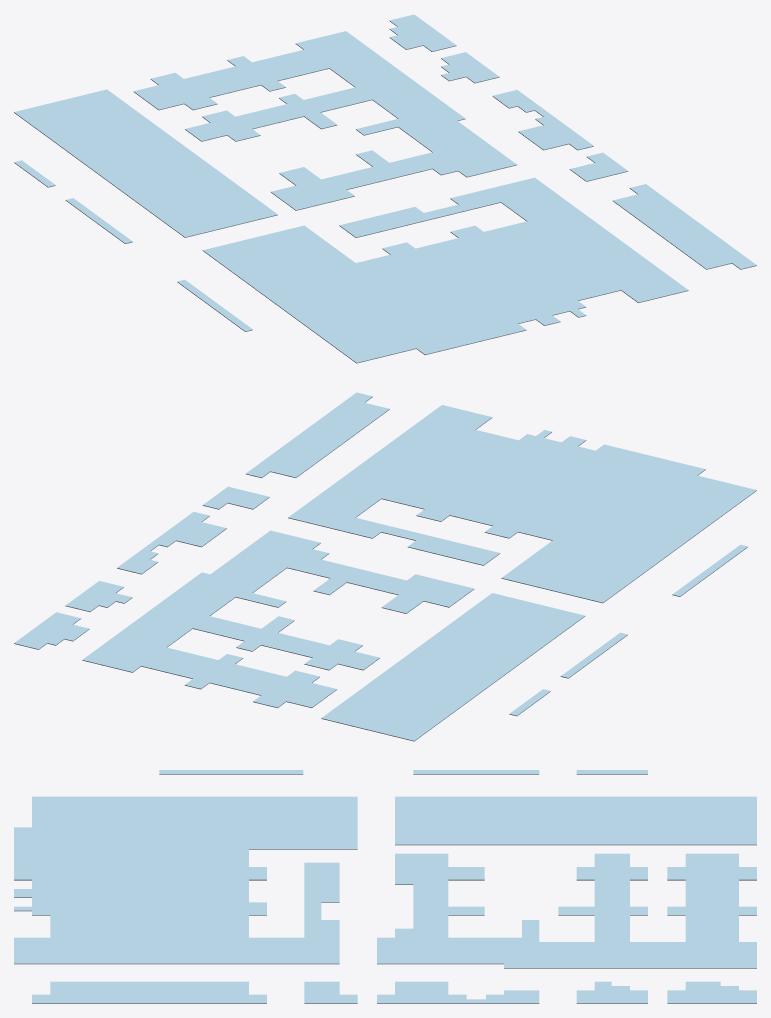
File: SM_MPR4_SolarBank_01_0_LOD2.fbx
The picture shows the model from 3 angles, top to bottom: view 1: azimuth 30°, elevation 25°; view 2: azimuth 150°, elevation 25°; view 3: azimuth 270°, elevation 25°; orthographic projection. The views are drawn at different scales.
Visible parts, largest first — view 1: SM_MPR4_SolarBank_01_0_LOD2; view 2: SM_MPR4_SolarBank_01_0_LOD2; view 3: SM_MPR4_SolarBank_01_0_LOD2.
Boxes of the visible parts, x1,y1,x2,y2 form: SM_MPR4_SolarBank_01_0_LOD2: (14, 14, 756, 363); SM_MPR4_SolarBank_01_0_LOD2: (14, 392, 756, 741); SM_MPR4_SolarBank_01_0_LOD2: (14, 770, 756, 1003).
Bounding box in the file's own units: 5925 × 7983 × 8.6.
